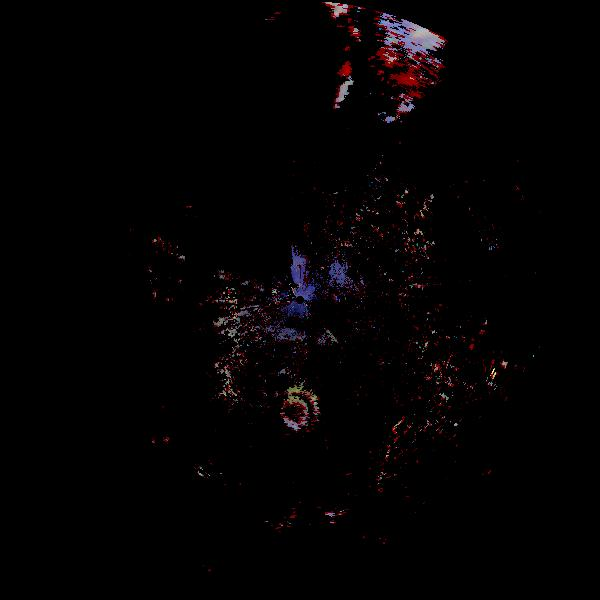roost: (276, 395, 315, 434)
